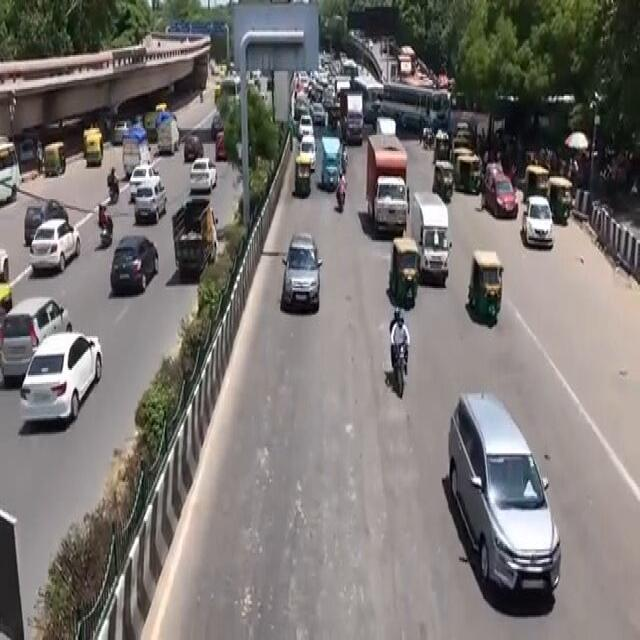three_wheeler: (466, 233, 505, 350)
